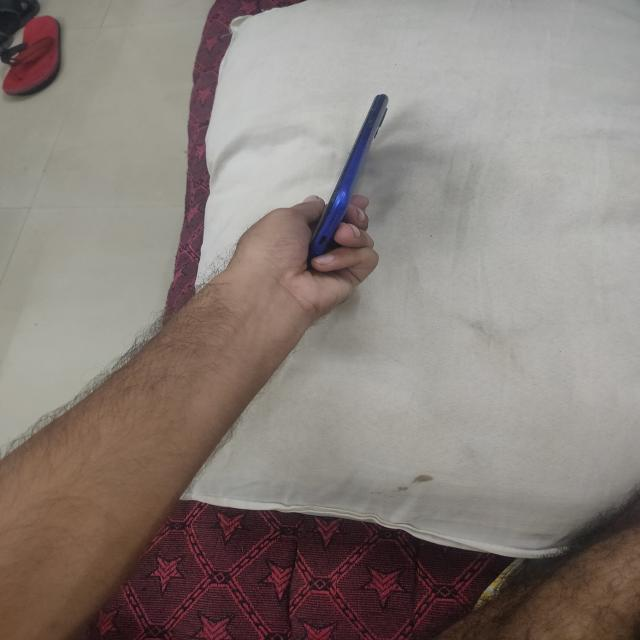Phone: (304, 90, 398, 277)
